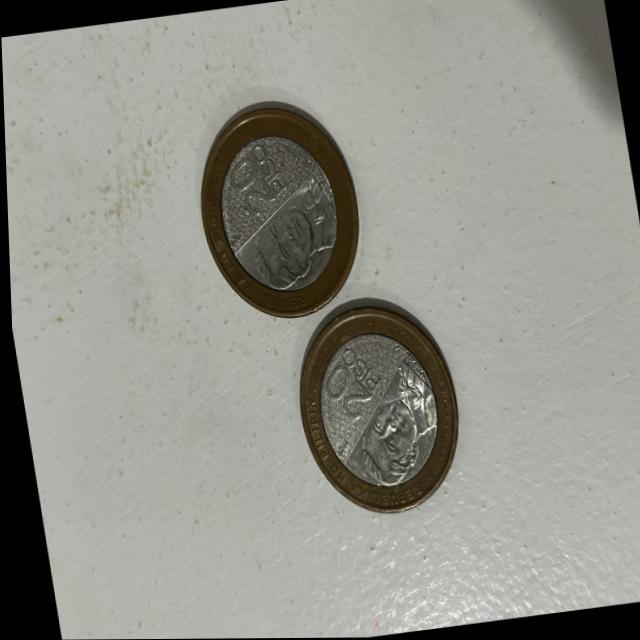20_New_Front: (216, 136, 292, 227), (309, 340, 380, 431)
